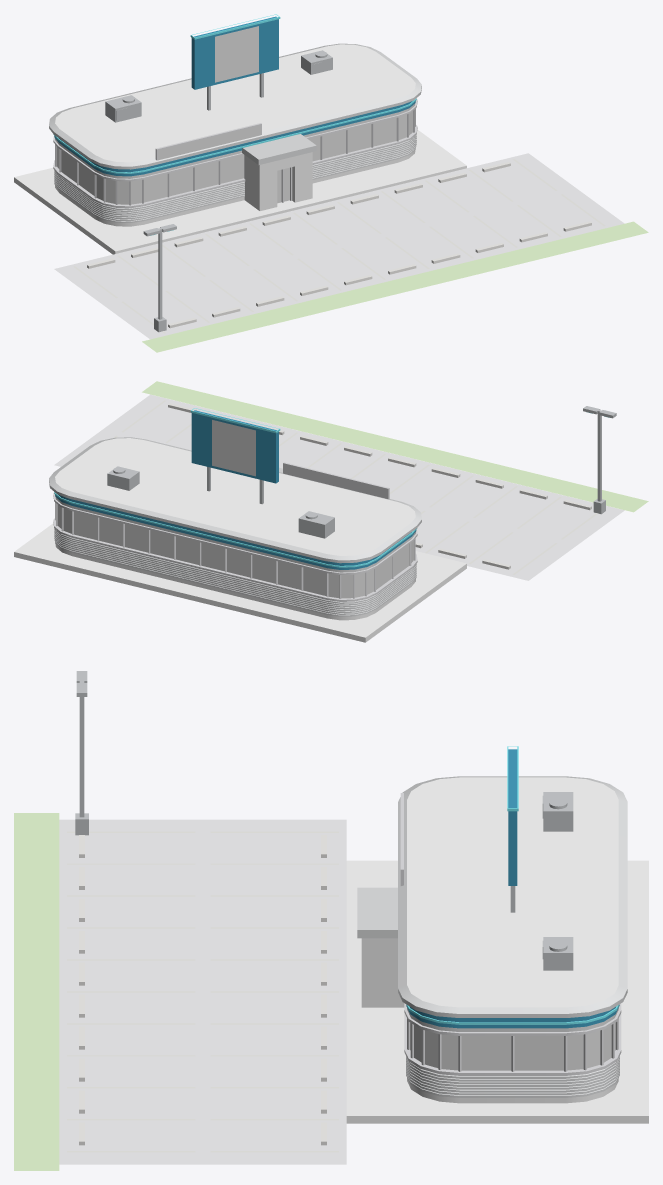
The model's file is retail_diner72.glb.
3 views of the same model, one above another, from view 1: azimuth 30°, elevation 25°; view 2: azimuth 150°, elevation 25°; view 3: azimuth 270°, elevation 25° (orthographic). The views are drawn at different scales.
Parts seen in each view (by area): view 1: retail_diner72_Asphalt, retail_diner72_Roof, retail_diner72_Walls, retail_diner72_Site, retail_diner72_Lawn, retail_diner72_WindowsLit, retail_diner72_Accent, retail_diner72_Frames, retail_diner72_Walls2, retail_diner72_Trim, retail_diner72_Details, retail_diner72_Paint (+3 smaller); view 2: retail_diner72_Asphalt, retail_diner72_Roof, retail_diner72_Walls, retail_diner72_Site, retail_diner72_WindowsLit, retail_diner72_Lawn, retail_diner72_Frames, retail_diner72_Accent, retail_diner72_Details, retail_diner72_Brand, retail_diner72_Trim, retail_diner72_Walls2 (+2 smaller); view 3: retail_diner72_Asphalt, retail_diner72_Roof, retail_diner72_Site, retail_diner72_Lawn, retail_diner72_Walls, retail_diner72_WindowsLit, retail_diner72_Paint, retail_diner72_Frames, retail_diner72_Walls2, retail_diner72_Details, retail_diner72_Accent, retail_diner72_Trim (+1 smaller).
Boxes of the visible parts, x1=… form: retail_diner72_Asphalt: x1=54, y1=153, x2=624, y2=339; retail_diner72_Roof: x1=55, y1=44, x2=415, y2=162; retail_diner72_Walls: x1=49, y1=43, x2=421, y2=222; retail_diner72_Site: x1=14, y1=129, x2=466, y2=254; retail_diner72_Lawn: x1=142, y1=221, x2=648, y2=352; retail_diner72_WindowsLit: x1=57, y1=111, x2=412, y2=204; retail_diner72_Accent: x1=54, y1=16, x2=415, y2=176; retail_diner72_Frames: x1=53, y1=99, x2=417, y2=207; retail_diner72_Walls2: x1=55, y1=150, x2=415, y2=226; retail_diner72_Trim: x1=87, y1=162, x2=591, y2=328; retail_diner72_Details: x1=105, y1=50, x2=332, y2=332; retail_diner72_Paint: x1=73, y1=159, x2=605, y2=333; retail_diner72_Asphalt: x1=54, y1=394, x2=624, y2=580; retail_diner72_Roof: x1=55, y1=438, x2=415, y2=555; retail_diner72_Walls: x1=49, y1=437, x2=421, y2=616; retail_diner72_Site: x1=14, y1=523, x2=466, y2=642; retail_diner72_WindowsLit: x1=57, y1=505, x2=413, y2=598; retail_diner72_Lawn: x1=142, y1=381, x2=648, y2=512; retail_diner72_Frames: x1=53, y1=462, x2=417, y2=601; retail_diner72_Accent: x1=55, y1=410, x2=416, y2=569; retail_diner72_Details: x1=107, y1=406, x2=616, y2=538; retail_diner72_Brand: x1=212, y1=420, x2=255, y2=476; retail_diner72_Trim: x1=168, y1=403, x2=591, y2=569; retail_diner72_Walls2: x1=55, y1=544, x2=415, y2=620; retail_diner72_Asphalt: x1=59, y1=819, x2=346, y2=1164; retail_diner72_Roof: x1=407, y1=777, x2=618, y2=1007; retail_diner72_Site: x1=346, y1=860, x2=648, y2=1123; retail_diner72_Lawn: x1=14, y1=813, x2=59, y2=1170; retail_diner72_Walls: x1=357, y1=776, x2=627, y2=1097; retail_diner72_WindowsLit: x1=410, y1=1022, x2=615, y2=1070; retail_diner72_Paint: x1=67, y1=831, x2=338, y2=1152; retail_diner72_Frames: x1=400, y1=793, x2=621, y2=1075; retail_diner72_Walls2: x1=361, y1=938, x2=618, y2=1103; retail_diner72_Details: x1=75, y1=671, x2=573, y2=970; retail_diner72_Accent: x1=406, y1=749, x2=619, y2=1028; retail_diner72_Trim: x1=79, y1=835, x2=326, y2=1145.
Bounding box in the file's own units: 112 × 31.9 × 84.
